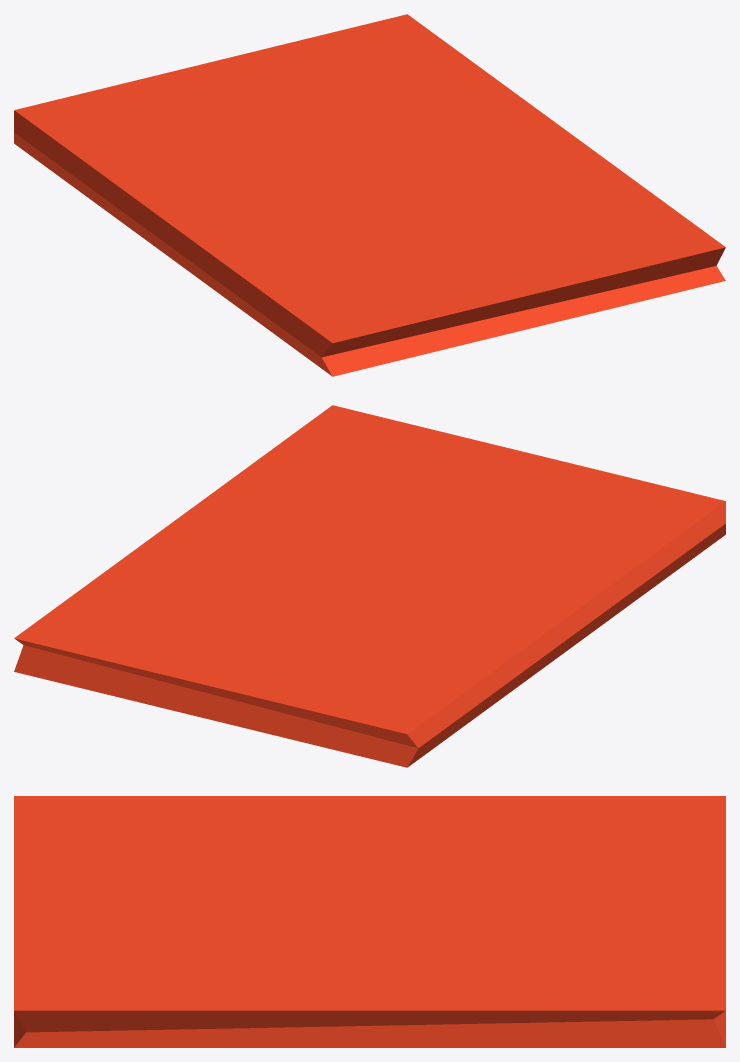
Rendered from SM_Newspaper_A_City.fbx.
3 renders of one model, top to bottom at view 1: azimuth 30°, elevation 25°; view 2: azimuth 150°, elevation 25°; view 3: azimuth 270°, elevation 25°, orthographic. The views are drawn at different scales.
Visible parts, largest first — view 1: SM_Newspaper_A_City; view 2: SM_Newspaper_A_City; view 3: SM_Newspaper_A_City.
Boxes of the visible parts, x1,y1,x2,y2 form: SM_Newspaper_A_City: (14, 14, 725, 376); SM_Newspaper_A_City: (14, 405, 725, 767); SM_Newspaper_A_City: (14, 796, 725, 1047).
Size of the model in its own units: 0.2796 by 0.0224 by 0.3867.
